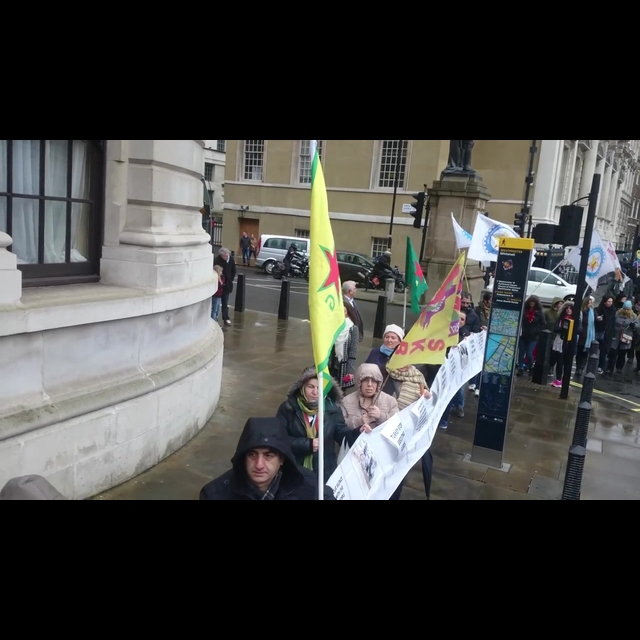YPG: (306, 142, 350, 386)
YPJ: (400, 233, 431, 318)
